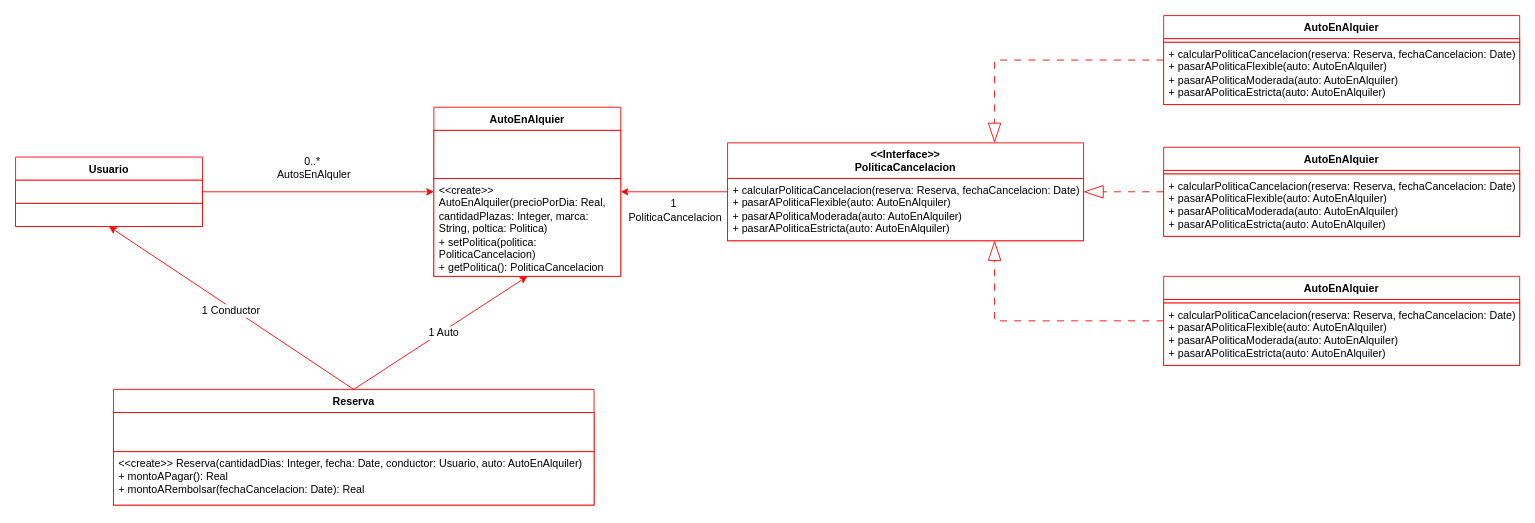
Some shapes in this 1535 by 523 pixel diagram are drawn without their labels. Each missing label, with the centre of its shape:
- cantidadDias: Integer - fecha: Date: (x=353, y=432)
- nombre: String: (x=108, y=191)
- precioPorDia: Real - cantidadPlazas: Integer - marca: String: (x=527, y=153)
<<create>> Usuario(nombre: String): (x=108, y=214)
